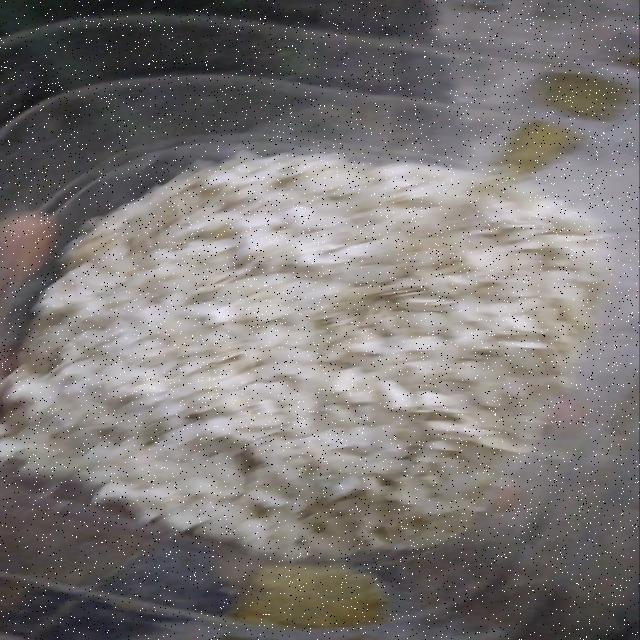Beaten Rice: (40, 164, 562, 490)
